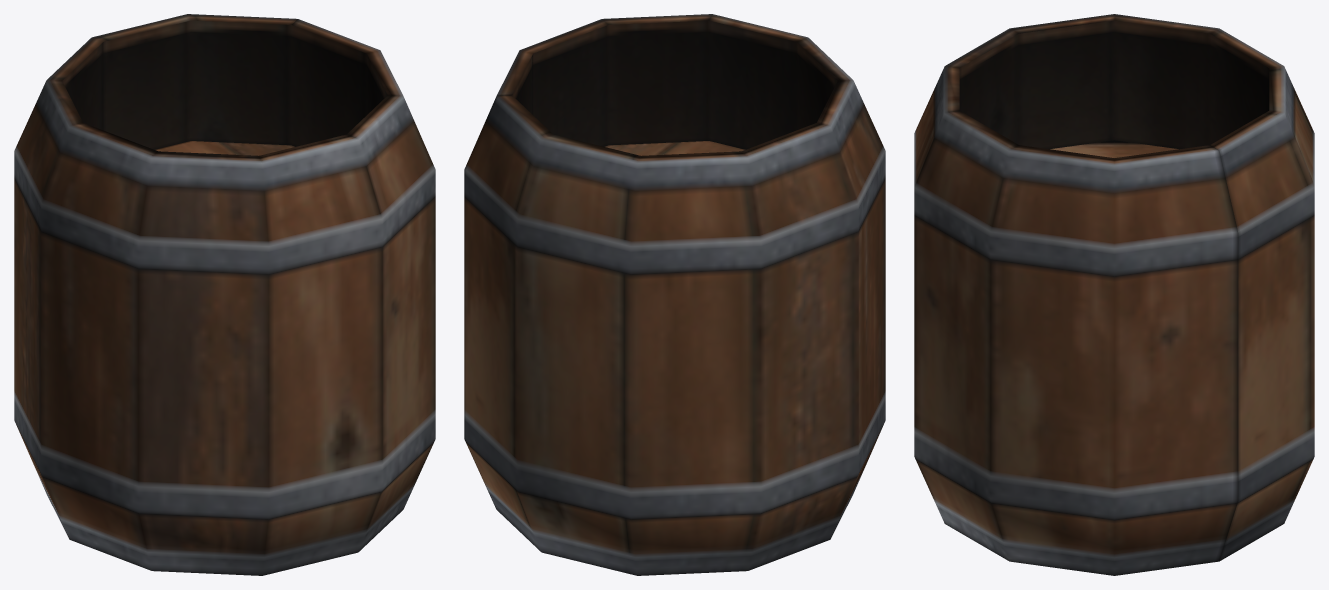
File: Barrel_empty_atlas.fbx
3 renders of one model, left to right at view 1: azimuth 30°, elevation 25°; view 2: azimuth 150°, elevation 25°; view 3: azimuth 270°, elevation 25°, orthographic.
Visible parts, largest first — view 1: pCylinder1; view 2: pCylinder1; view 3: pCylinder1.
Boxes of the visible parts, <box> form: pCylinder1: <box>14,14,435,575</box>; pCylinder1: <box>464,14,885,575</box>; pCylinder1: <box>914,14,1314,575</box>.
Size of the model in its own units: 0.9039 by 0.9734 by 0.8596.
